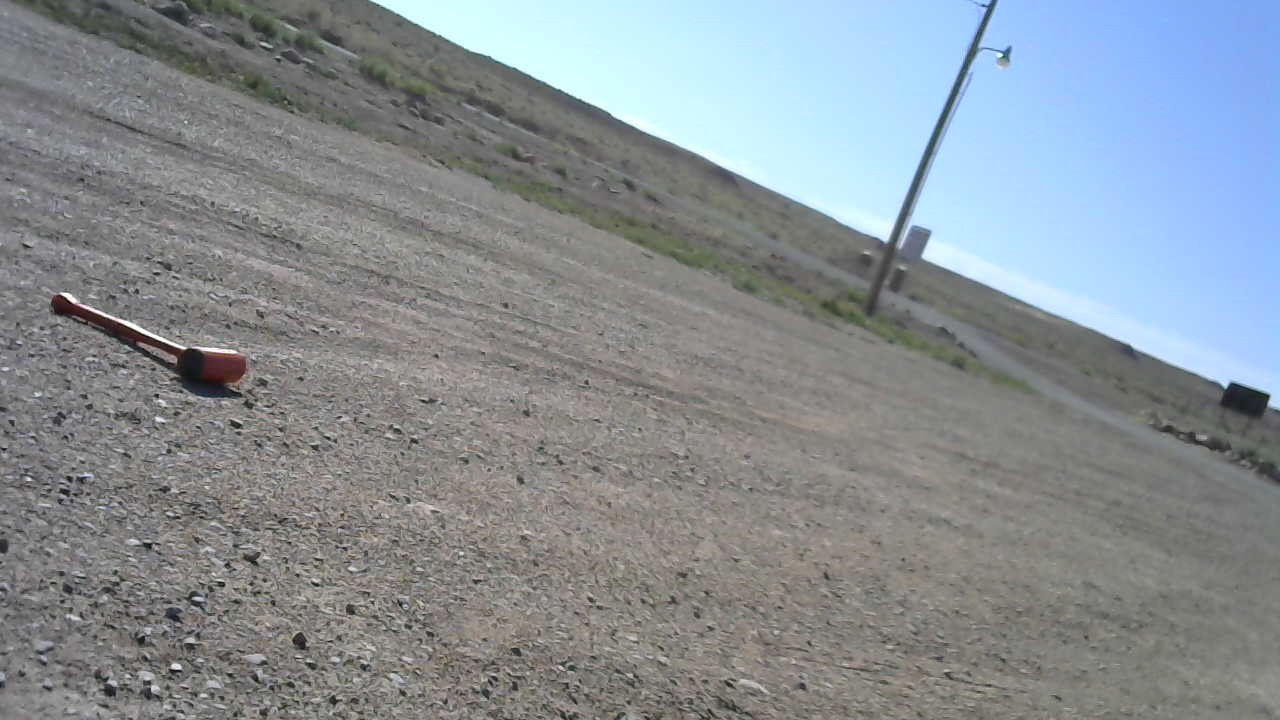hammer: (46, 283, 251, 388)
